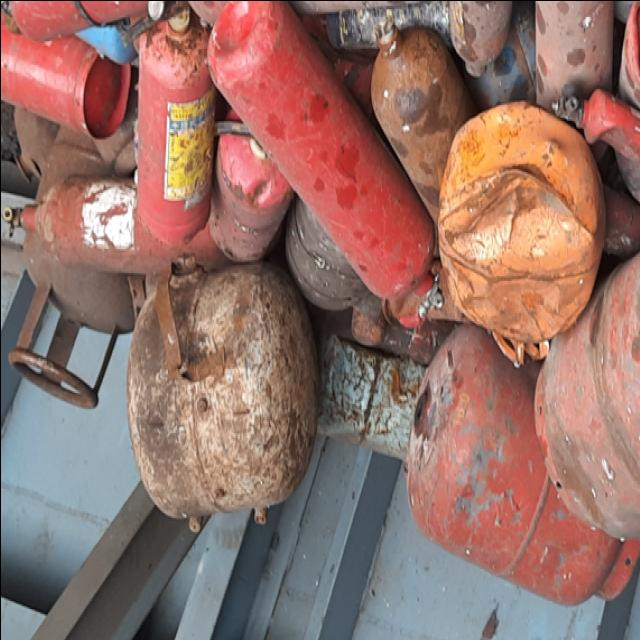cylinder: (205, 2, 445, 320), (405, 323, 639, 604), (127, 252, 316, 532), (2, 173, 235, 272), (122, 2, 215, 248)
